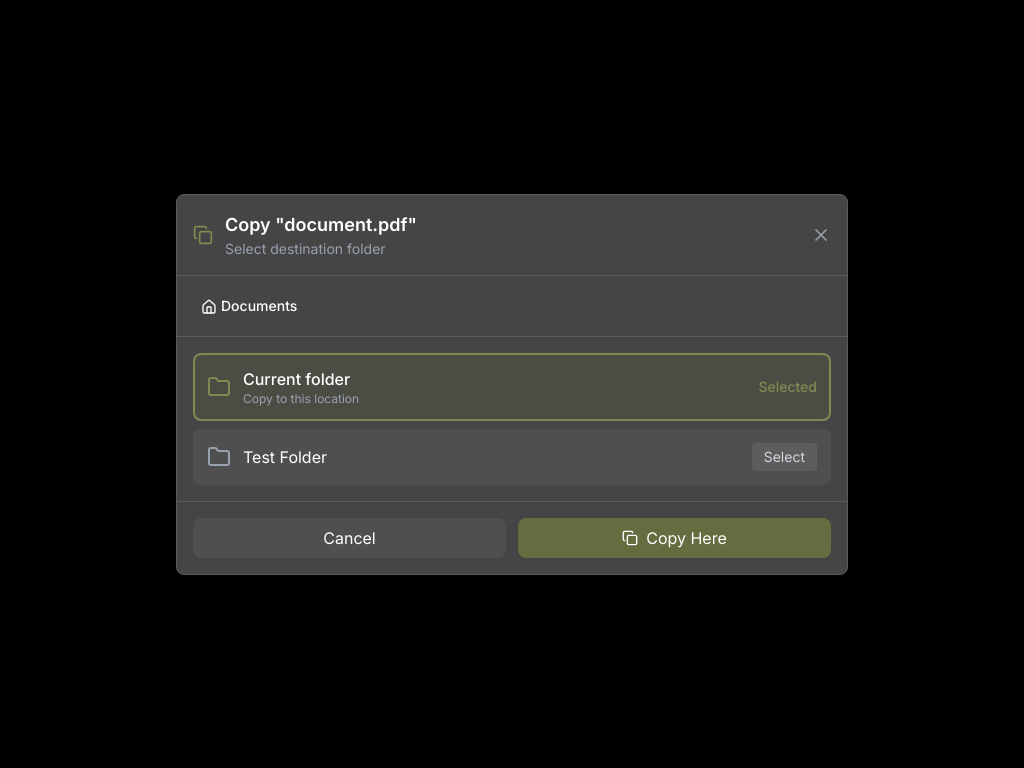
Test case: CopyMoveModal › Folder Selection › should highlight selected folder
Expected: the text "Test Folder" is shown, [243,446,327,466]
Click the button "Select" at (784, 456), box [752,442,817,470]
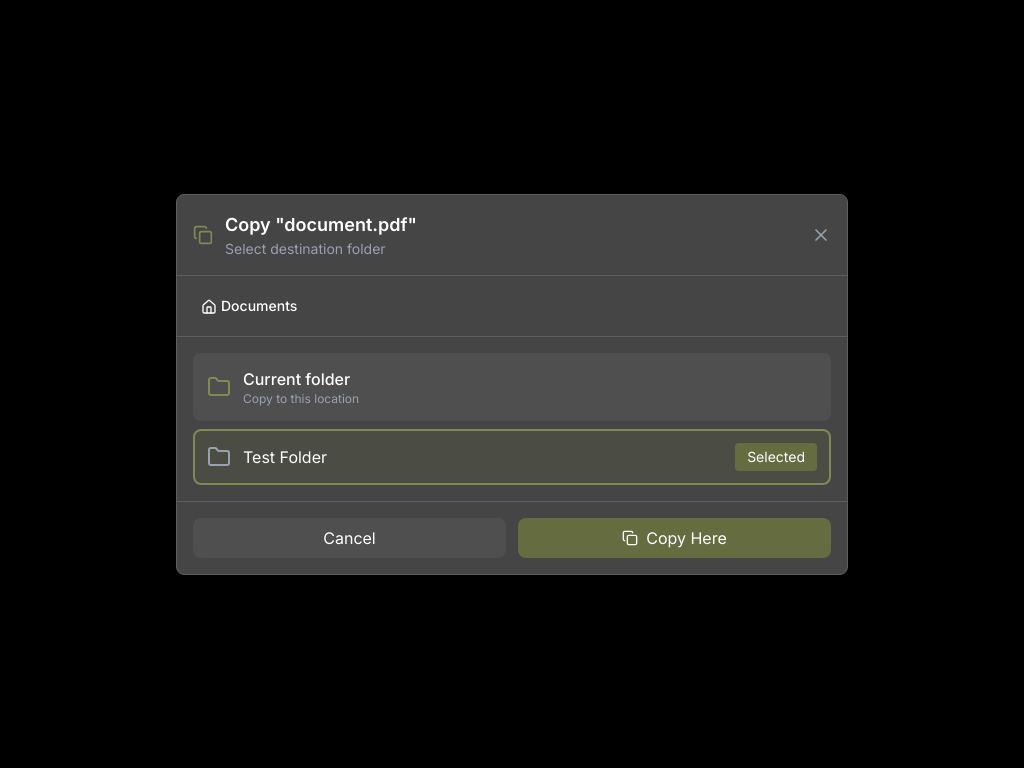
Result: the button "Selected" is shown at [735,442,817,470]
